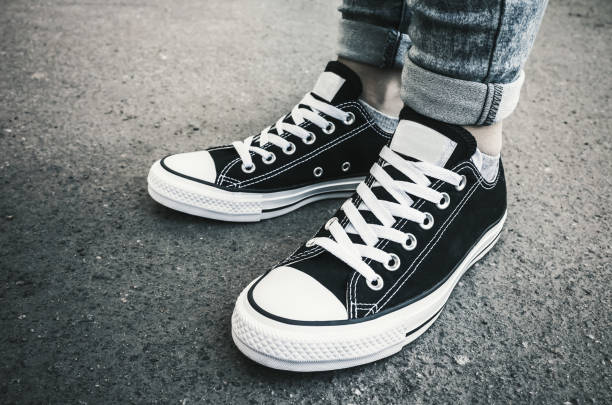Footwear: (146, 72, 525, 377)
